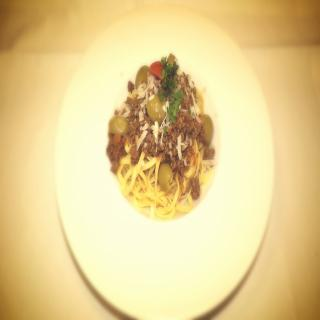Pasta: (106, 60, 216, 216)
